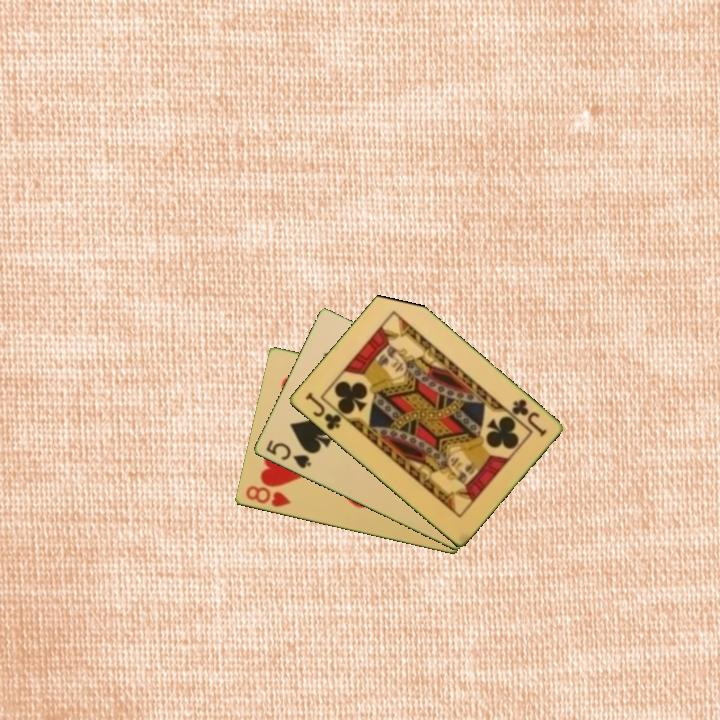5s: (262, 437, 314, 472)
8h: (242, 482, 293, 510)
Jc: (301, 389, 344, 433), (508, 395, 549, 440)
